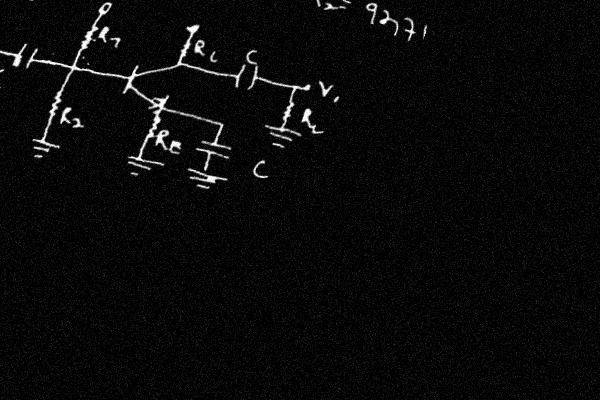capacitor: (5, 38, 45, 73), (227, 61, 267, 96), (191, 133, 237, 162)
ground: (178, 162, 234, 194), (255, 119, 306, 153), (117, 150, 169, 183), (23, 133, 65, 164)
resistor: (40, 79, 71, 125), (73, 14, 105, 57), (277, 92, 302, 128), (140, 111, 166, 145), (174, 34, 198, 63)
